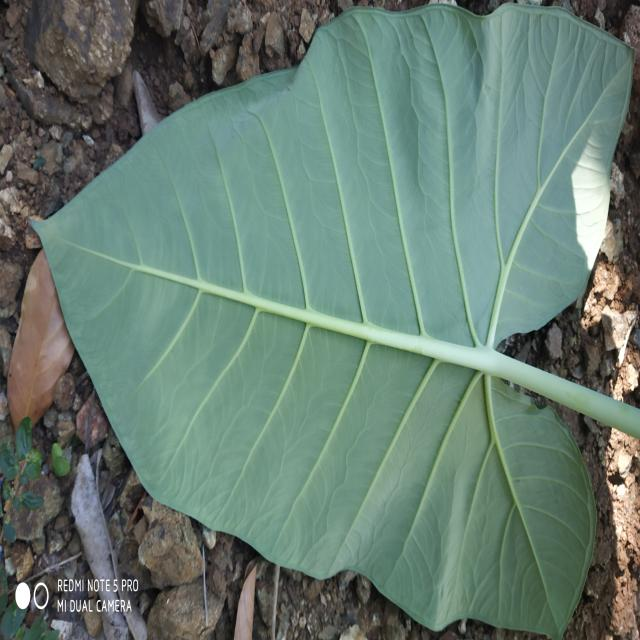taro: (39, 7, 640, 638)
